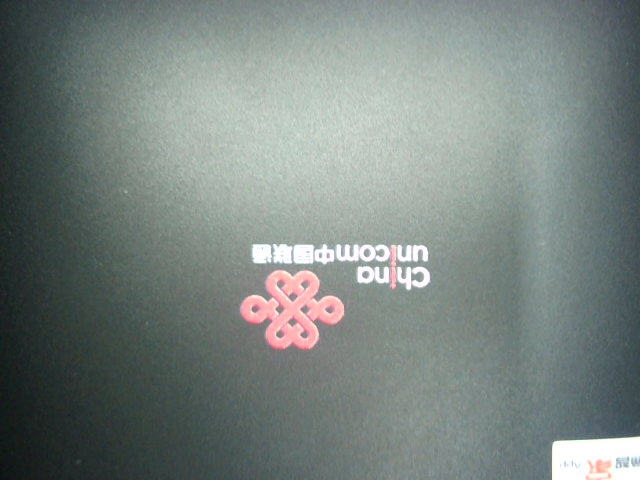AC_ChinaUnicom: (238, 230, 439, 352)
